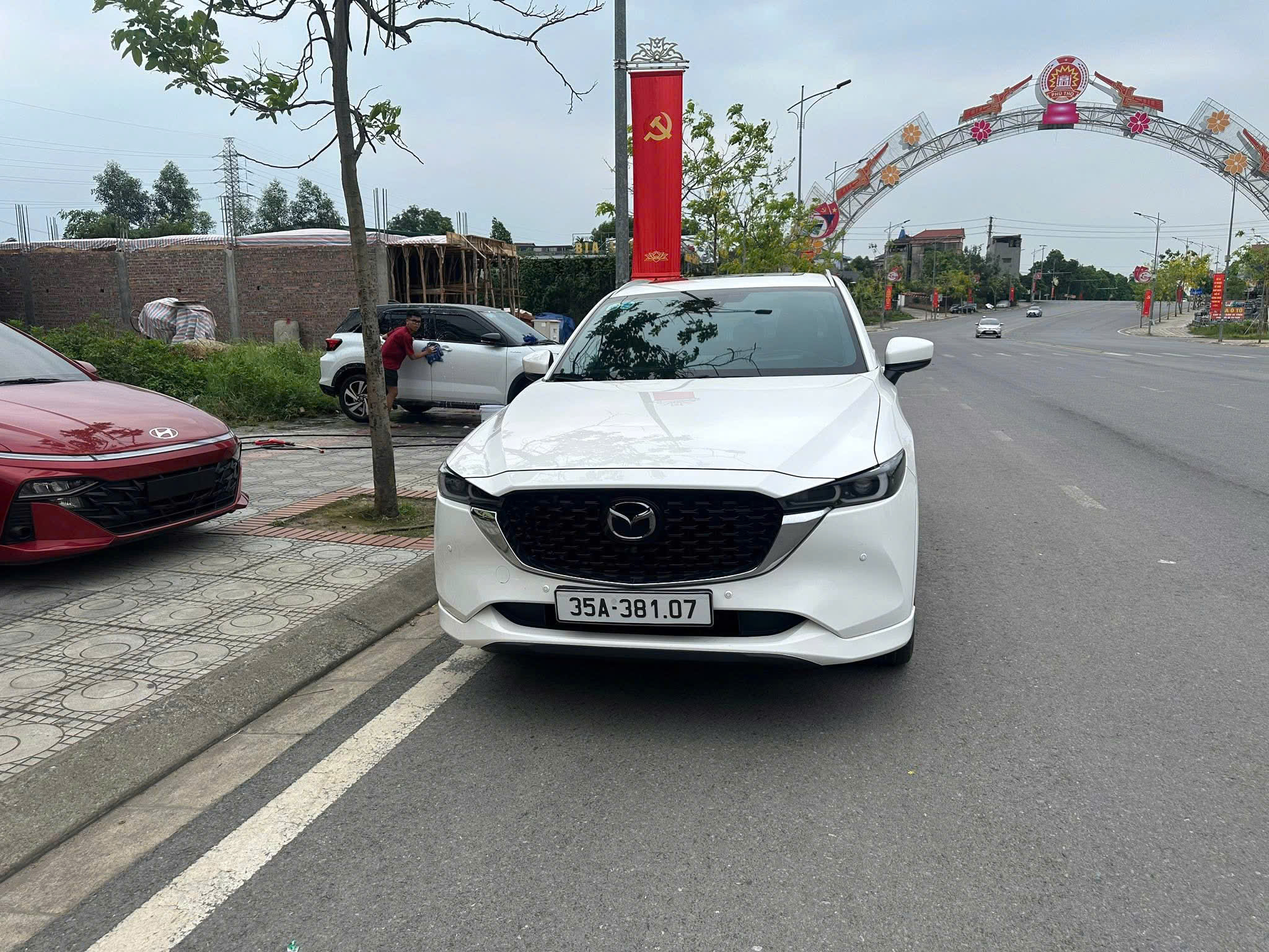Bien-so: (558, 585, 710, 629)
